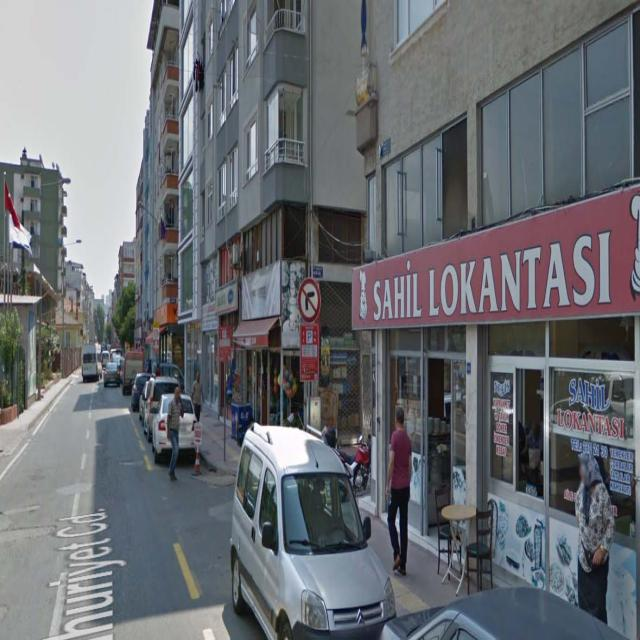sagadonulmez: (298, 274, 322, 324)
